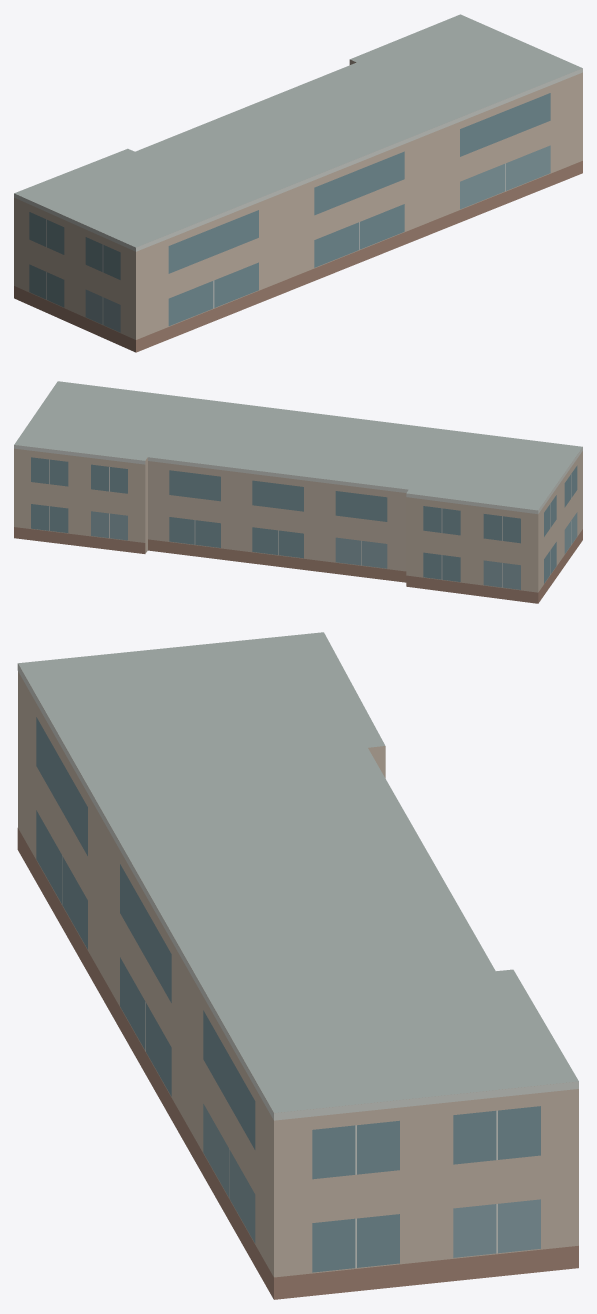
File: survey-upis-32836719.glb
The picture shows the model from 3 angles, top to bottom: view 1: azimuth 30°, elevation 25°; view 2: azimuth 150°, elevation 25°; view 3: azimuth 270°, elevation 25°; orthographic projection. The views are drawn at different scales.
Parts seen in each view (by area): view 1: survey-upis-32836719.tmp; view 2: survey-upis-32836719.tmp; view 3: survey-upis-32836719.tmp.
Part boxes in pixels (bbox=[...]): survey-upis-32836719.tmp: bbox=[14, 14, 582, 352]; survey-upis-32836719.tmp: bbox=[14, 381, 582, 603]; survey-upis-32836719.tmp: bbox=[17, 632, 578, 1299].
Size of the model in its own units: 33.74 by 6.1 by 16.64.
